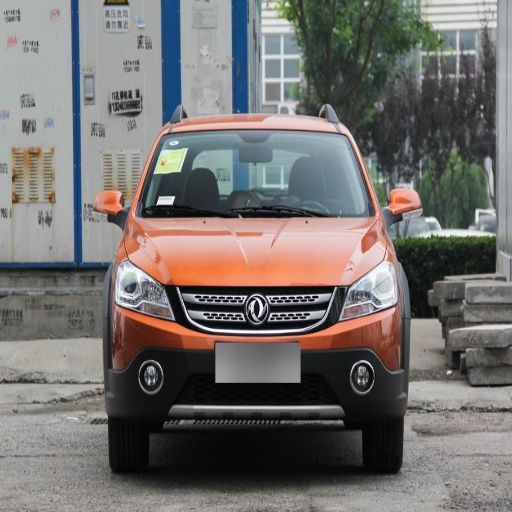front_bumper: (105, 285, 406, 426)
front_right_light: (112, 258, 176, 321)
hood: (126, 217, 386, 286)
